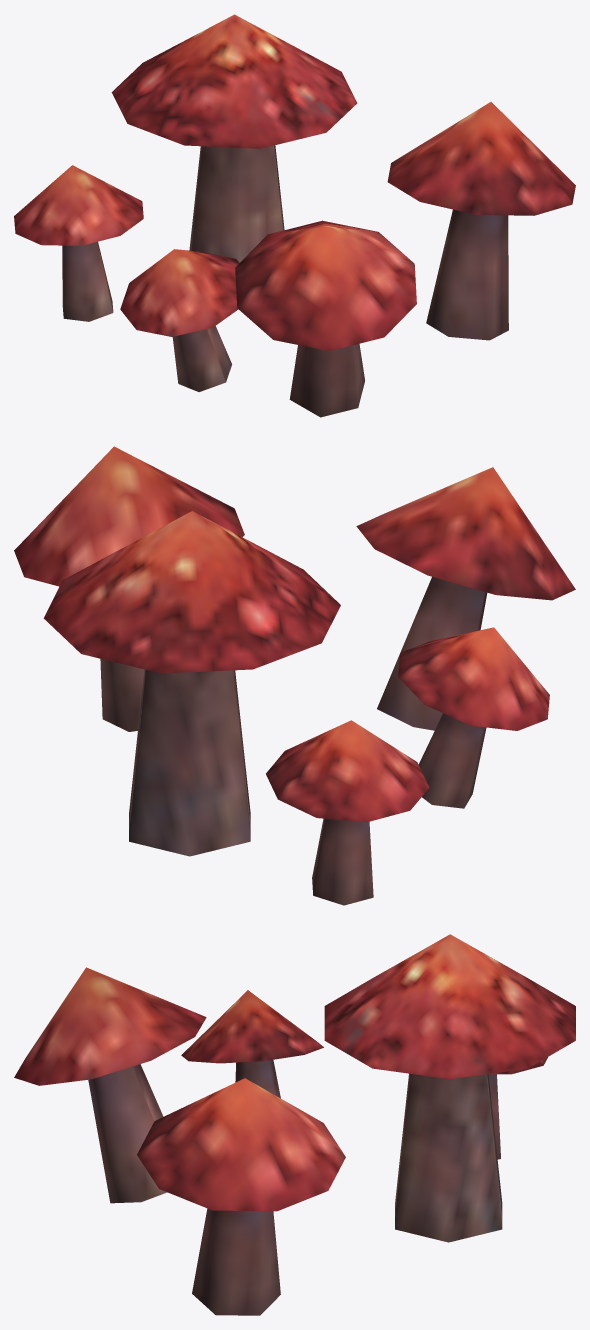
The model's file is Scene_Mushrooms_03.FBX.
The picture shows the model from 3 angles, top to bottom: view 1: azimuth 30°, elevation 25°; view 2: azimuth 150°, elevation 25°; view 3: azimuth 270°, elevation 25°; orthographic projection. The views are drawn at different scales.
Visible parts, largest first — view 1: Scene_Mushrooms_03; view 2: Scene_Mushrooms_03; view 3: Scene_Mushrooms_03.
Part boxes in pixels (x1,y1,x2,y2): Scene_Mushrooms_03: (14,14,575,417); Scene_Mushrooms_03: (14,446,575,905); Scene_Mushrooms_03: (14,934,575,1315).
Bounding box in the file's own units: 1.55 × 0.9557 × 1.64.
